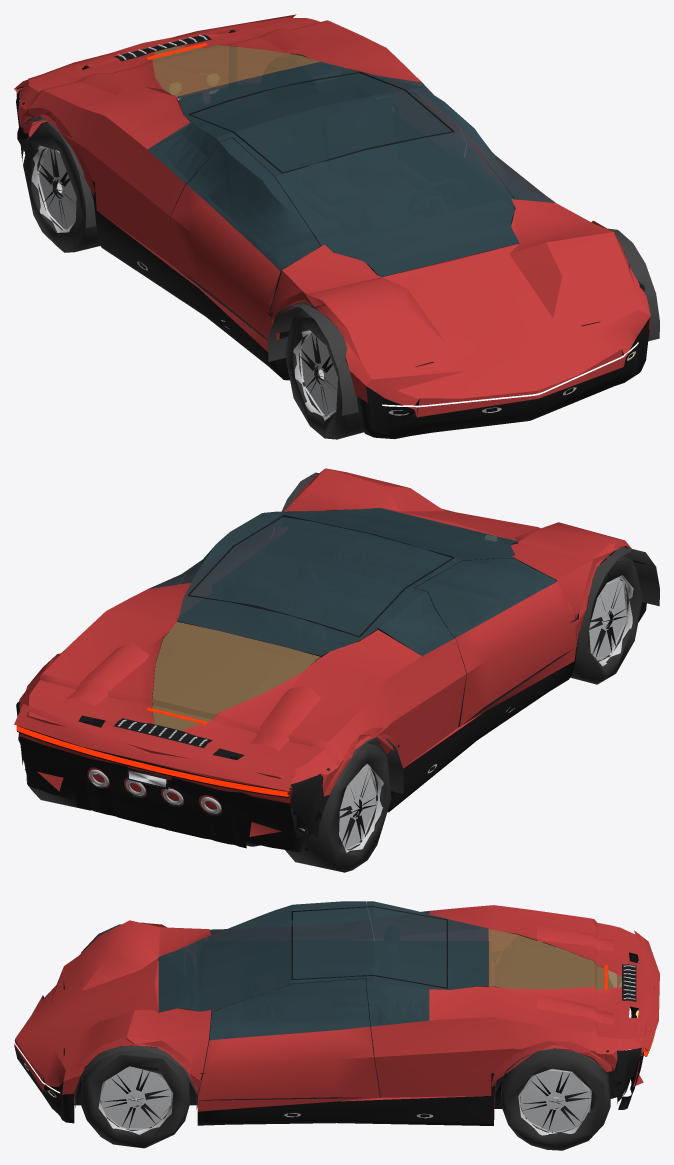
File: roadsterII_phone.glb
3 renders of one model, top to bottom at view 1: azimuth 30°, elevation 25°; view 2: azimuth 150°, elevation 25°; view 3: azimuth 270°, elevation 25°, orthographic. The views are drawn at different scales.
Parts seen in each view (by area): view 1: Body, Wheels; view 2: Body, Wheels; view 3: Body, Wheels.
Boxes of the visible parts, left/top/right/bottom form: Body: left=14, top=14, right=659, bottom=439; Wheels: left=23, top=122, right=363, bottom=439; Body: left=14, top=468, right=659, bottom=852; Wheels: left=26, top=556, right=643, bottom=872; Body: left=14, top=901, right=659, bottom=1125; Wheels: left=81, top=968, right=610, bottom=1150.
Size of the model in its own units: 2.04 by 1.15 by 4.39.
